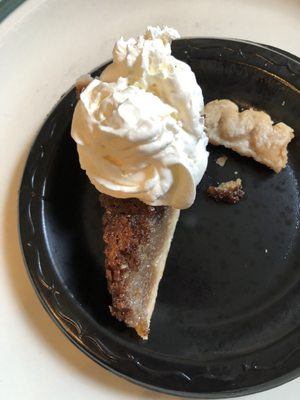sushi: (65, 30, 209, 338), (70, 27, 210, 210)
